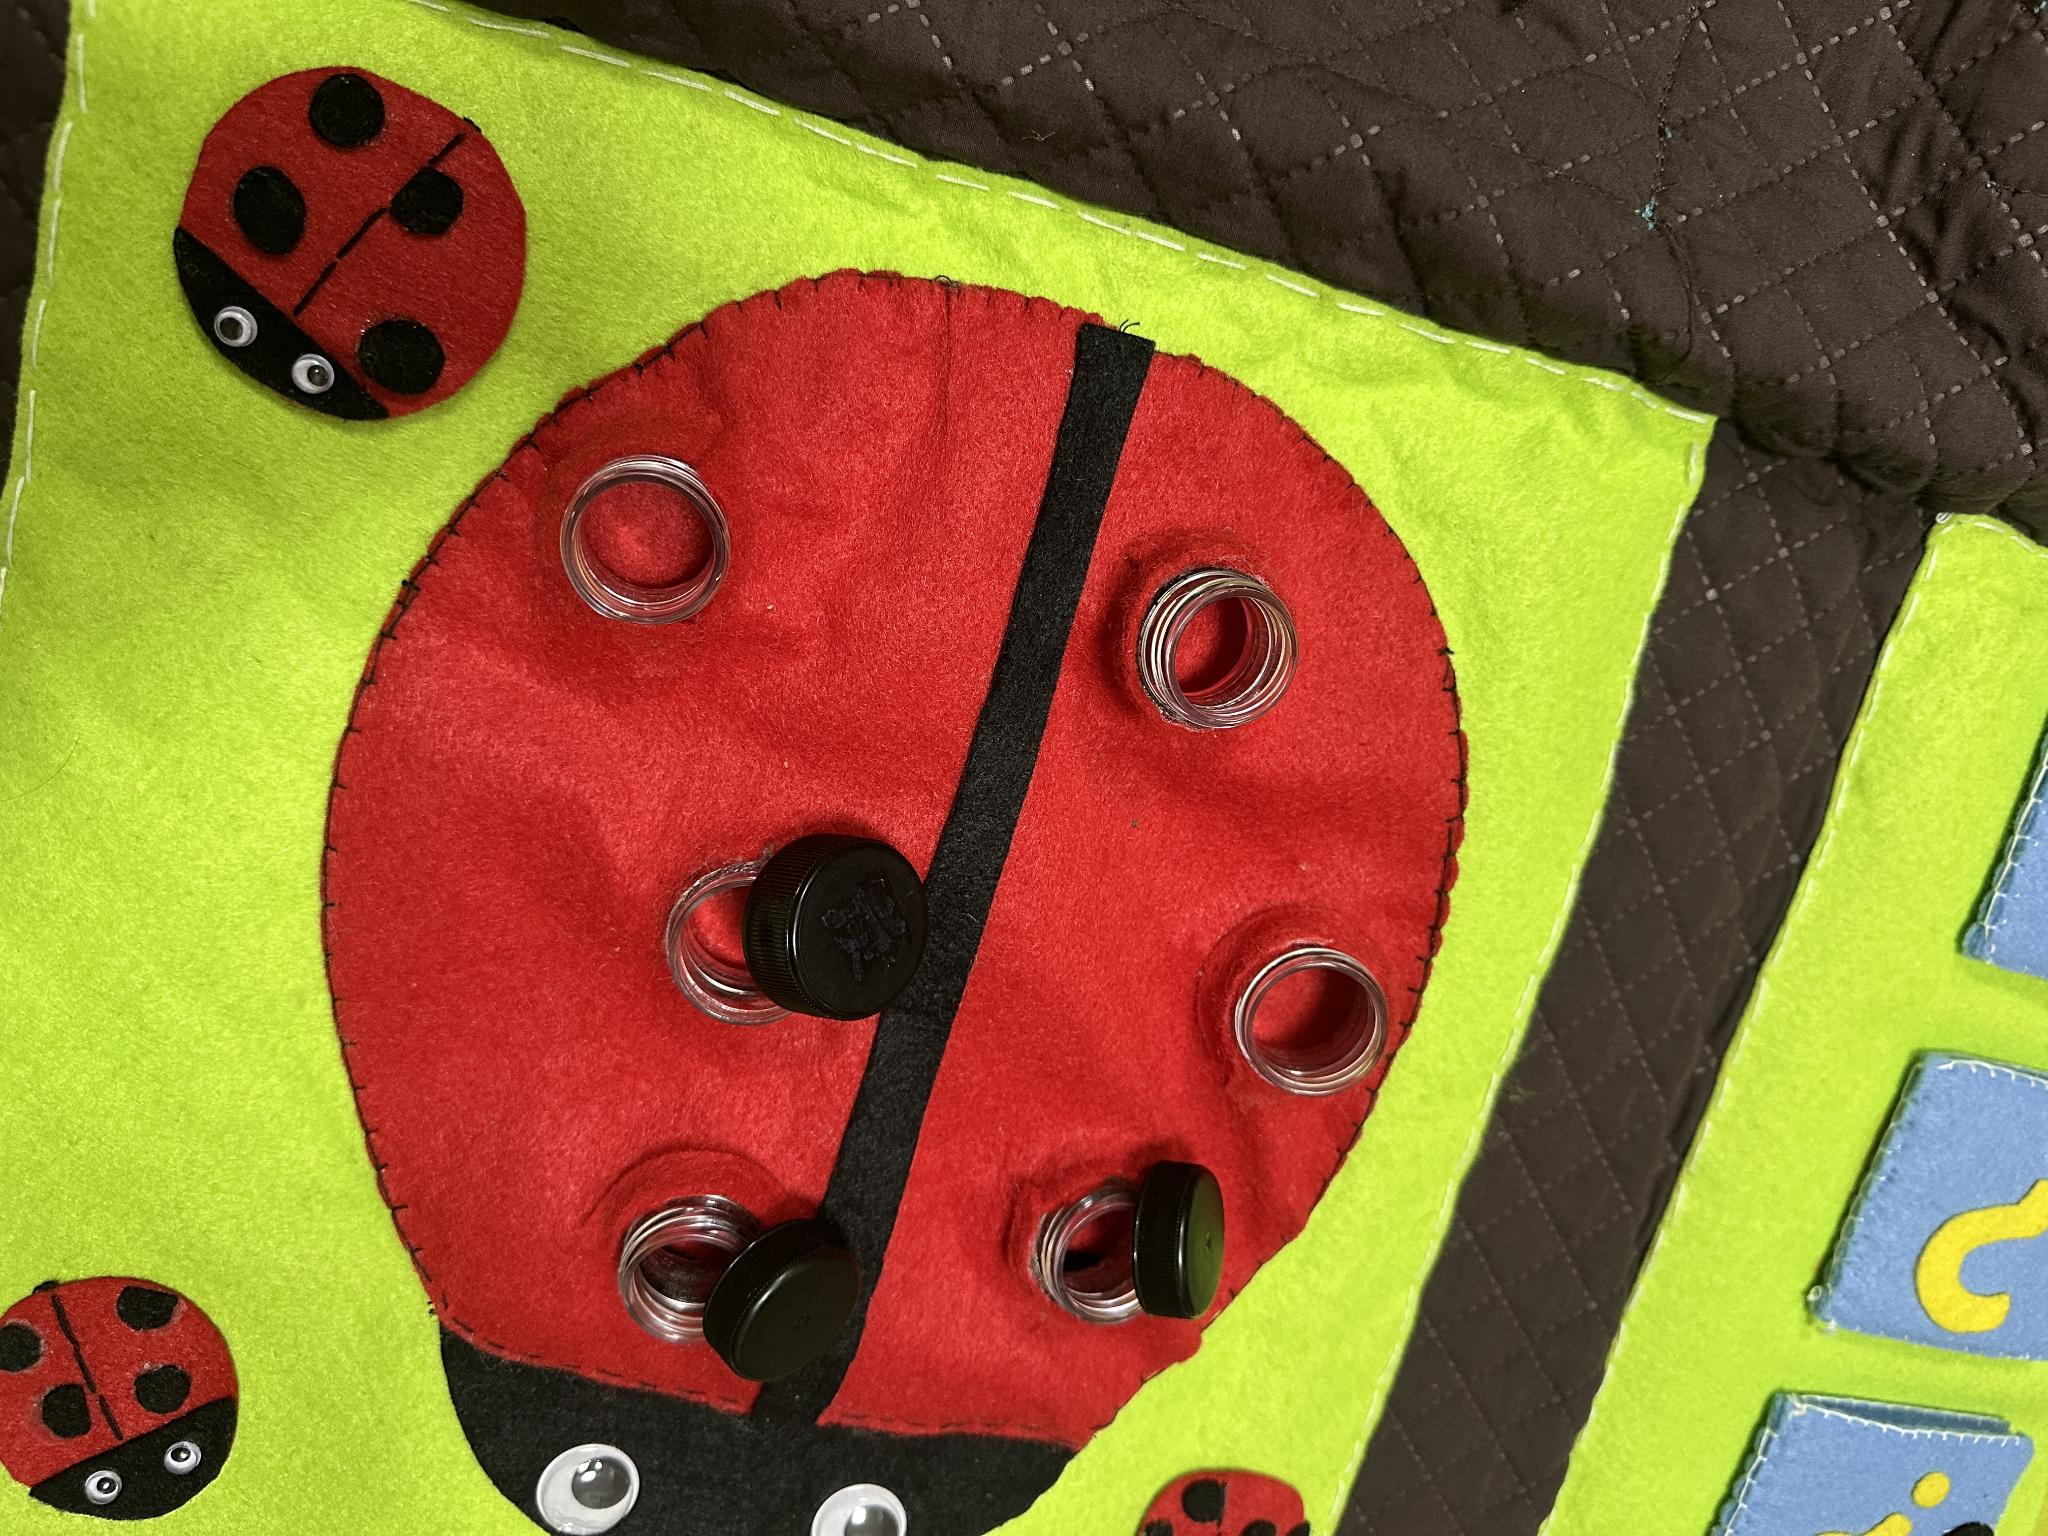cap_ng: (571, 1128, 884, 1399), (634, 816, 942, 1060), (974, 1141, 1245, 1352)
